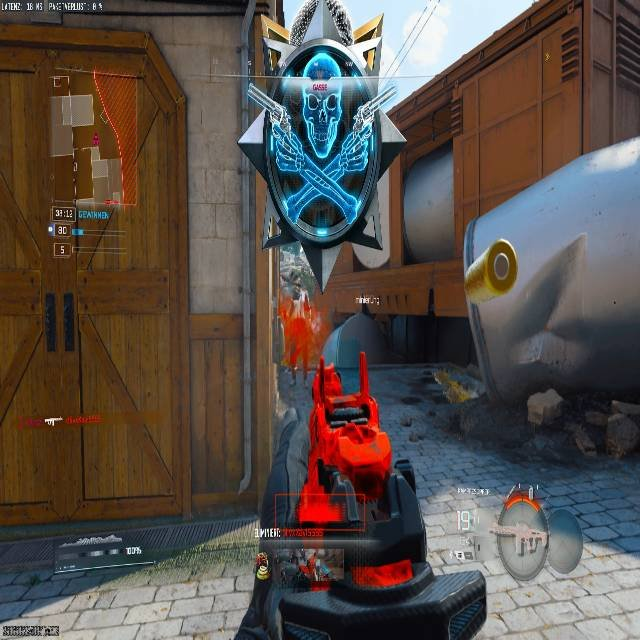player: (242, 26, 416, 411)
